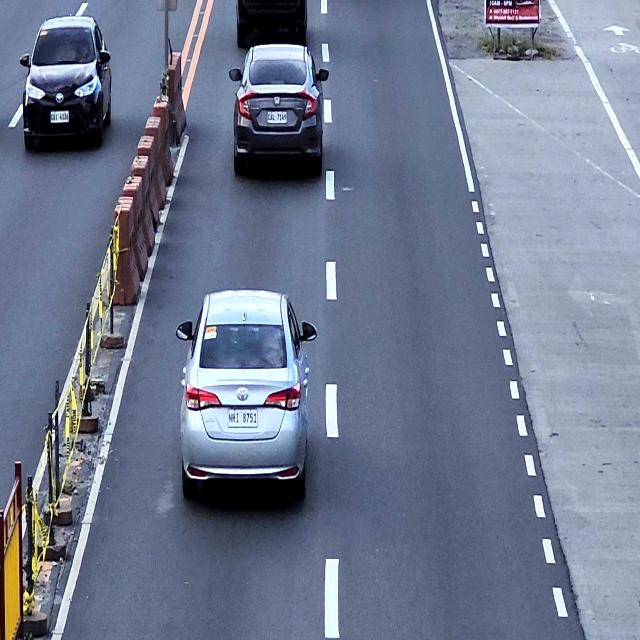Car: (176, 288, 317, 498), (228, 42, 328, 174), (19, 14, 112, 151)
License-Plate: (227, 408, 258, 429), (266, 110, 288, 124), (50, 110, 70, 124)
